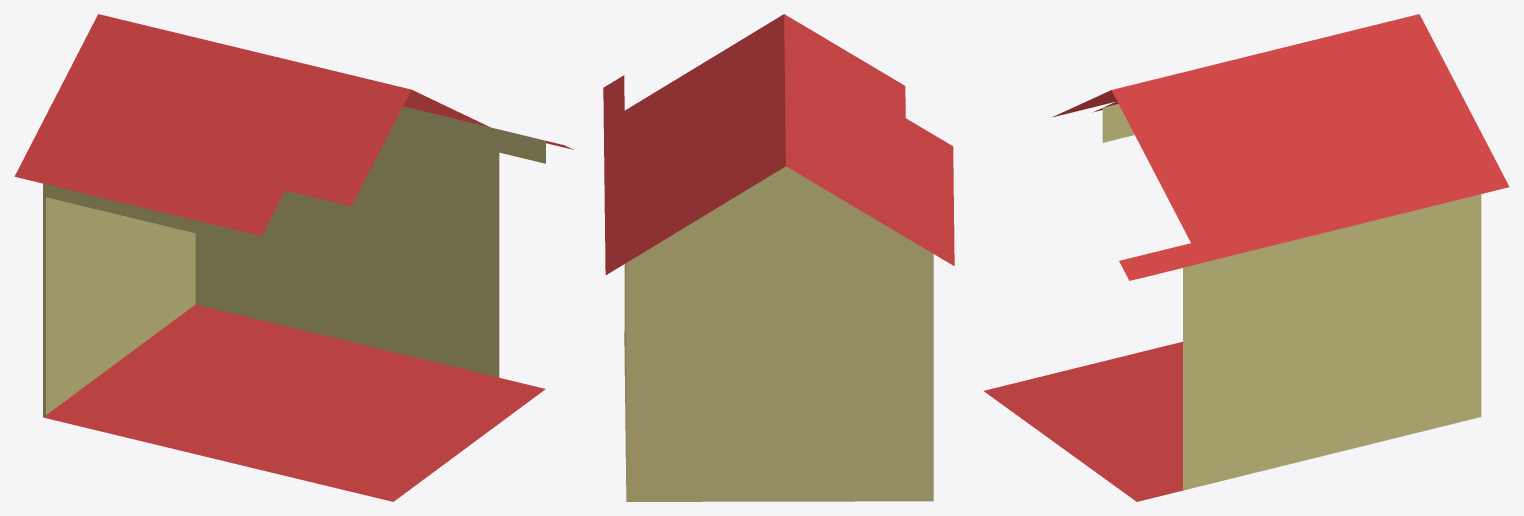
3 renders of one model, left to right at view 1: azimuth 30°, elevation 25°; view 2: azimuth 150°, elevation 25°; view 3: azimuth 270°, elevation 25°, orthographic.
Bounding box in the file's own units: 12.58 × 12.72 × 9.09.
